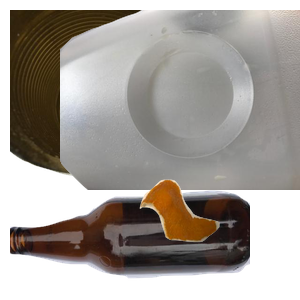glass: (10, 188, 250, 300)
metal: (10, 10, 200, 180)
plastic: (60, 10, 300, 190)
trash: (137, 177, 300, 300)
